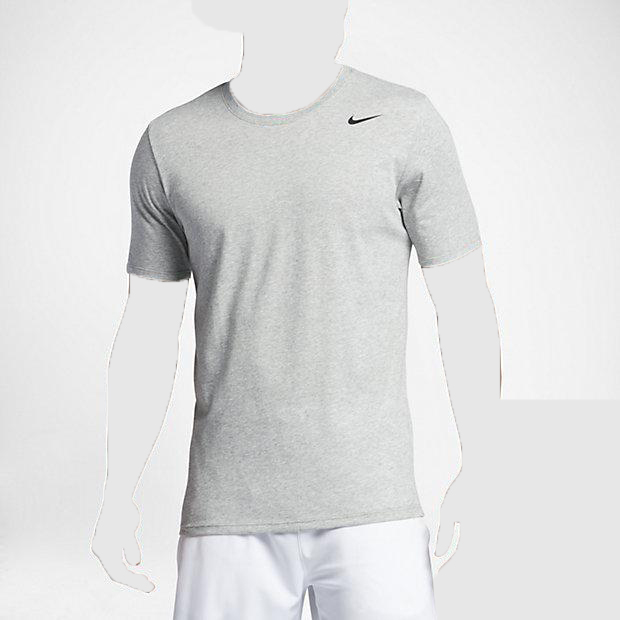teeshirt: (123, 66, 490, 534)
